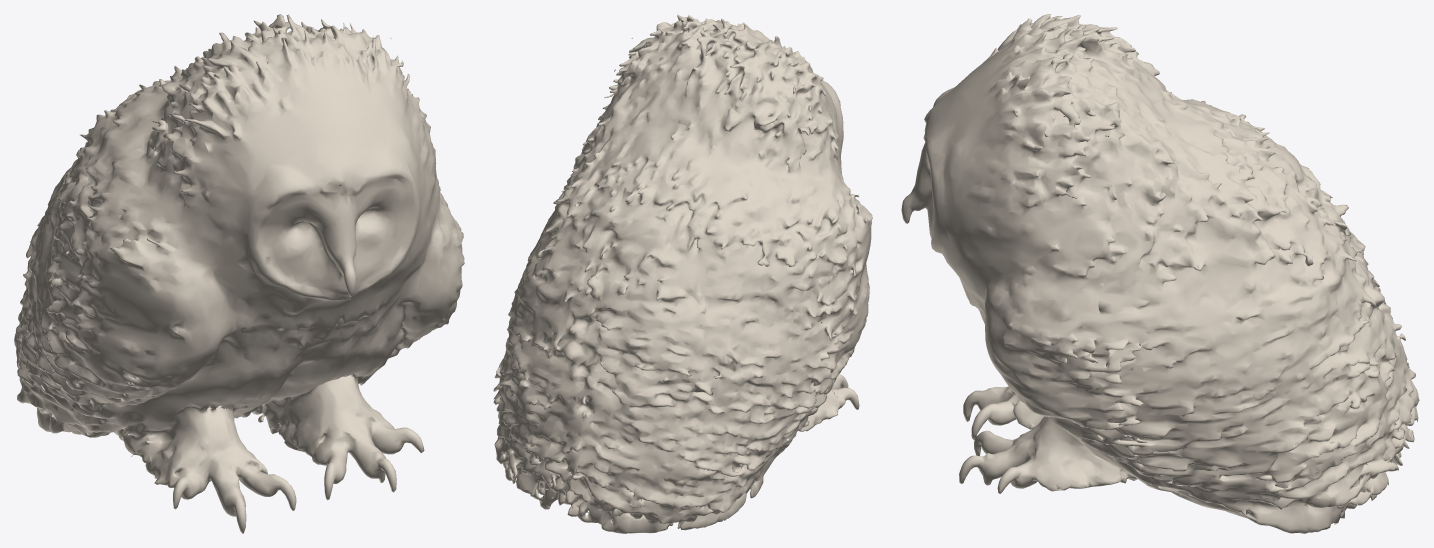
Rendered from run100b_80k_uv_real_baked_normals_ART_UNAPPROVED.glb.
3 renders of one model, left to right at view 1: azimuth 30°, elevation 25°; view 2: azimuth 150°, elevation 25°; view 3: azimuth 270°, elevation 25°, orthographic. The views are drawn at different scales.
Visible parts, largest first — view 1: run100_smooth_80k_REAL_NEURAL_SOURCE; view 2: run100_smooth_80k_REAL_NEURAL_SOURCE; view 3: run100_smooth_80k_REAL_NEURAL_SOURCE.
Boxes of the visible parts, x1,y1,x2,y2 form: run100_smooth_80k_REAL_NEURAL_SOURCE: [14, 14, 464, 533]; run100_smooth_80k_REAL_NEURAL_SOURCE: [493, 14, 872, 533]; run100_smooth_80k_REAL_NEURAL_SOURCE: [901, 14, 1419, 533].
Size of the model in its own units: 1.54 by 1.91 by 1.95.
